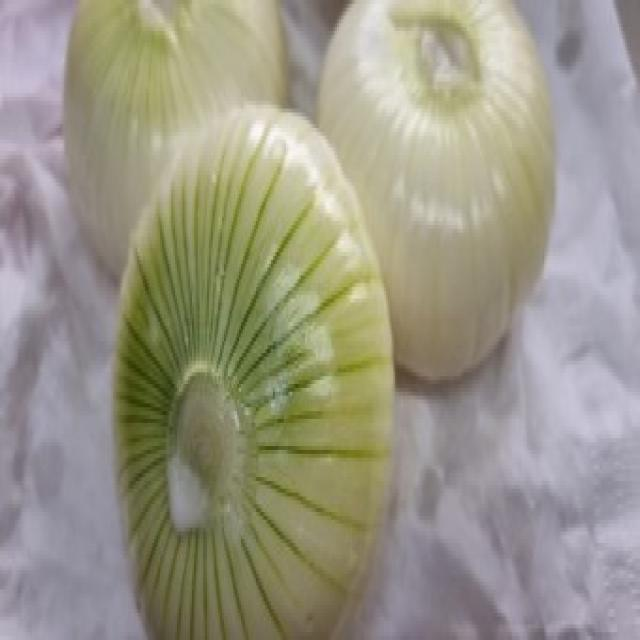onion: (102, 101, 408, 640), (325, 0, 568, 351), (57, 0, 297, 202)
